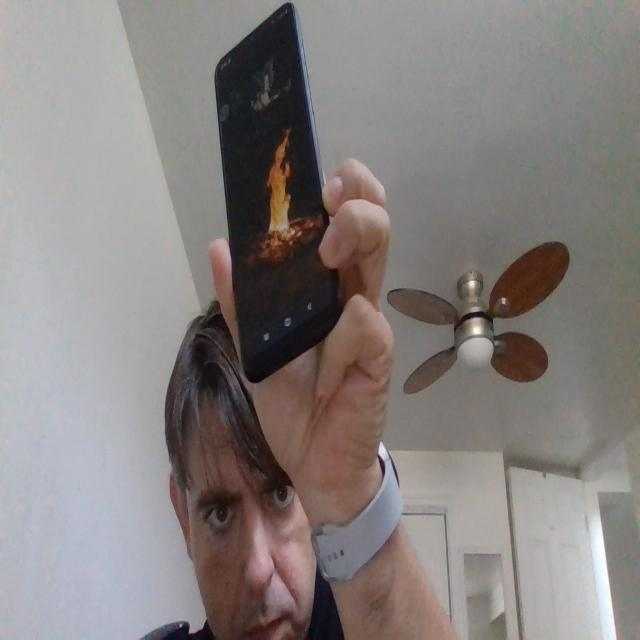Fire: (253, 113, 306, 272)
